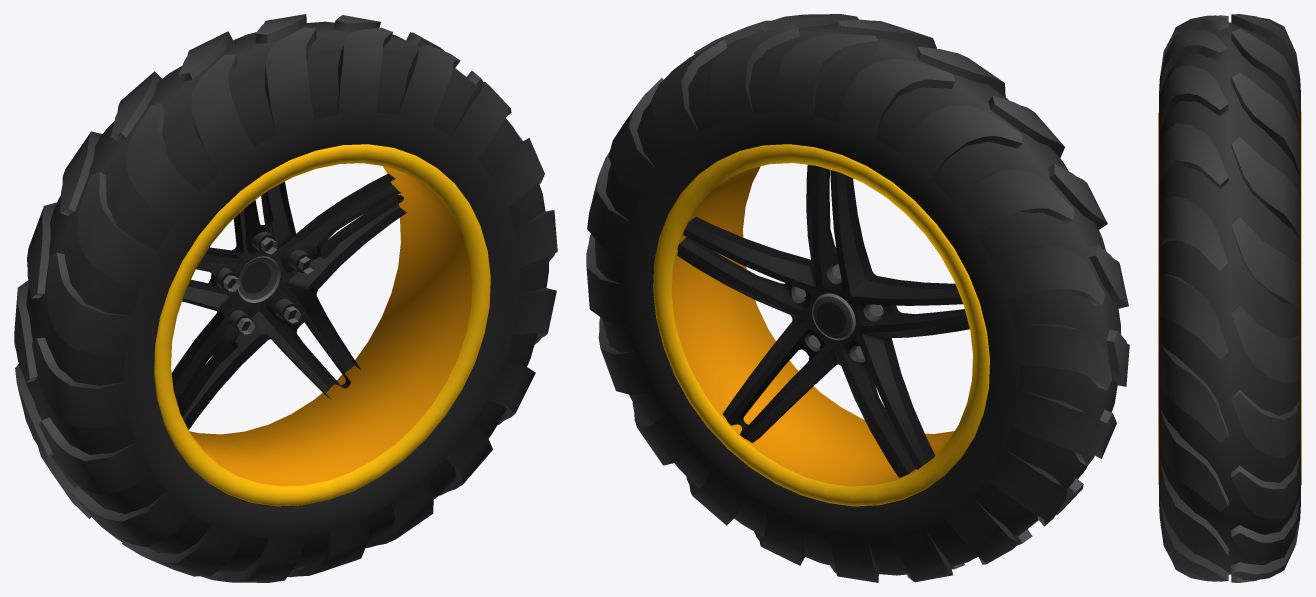
Rendered from Tyre Steering.fbx.
The picture shows the model from 3 angles, left to right: view 1: azimuth 30°, elevation 25°; view 2: azimuth 150°, elevation 25°; view 3: azimuth 270°, elevation 25°; orthographic projection. The views are drawn at different scales.
Visible parts, largest first — view 1: Tyre_Steering; view 2: Tyre_Steering; view 3: Tyre_Steering.
Part boxes in pixels (x1,y1,x2,y2): Tyre_Steering: (14, 14, 557, 582); Tyre_Steering: (586, 14, 1129, 582); Tyre_Steering: (1158, 14, 1301, 582).
Bounding box in the file's own units: 112 × 112 × 28.18.
